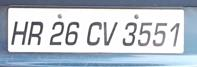1: (168, 21, 180, 49)
2: (49, 19, 64, 46)
3: (122, 22, 137, 48)
5: (151, 22, 168, 47), (137, 21, 153, 47)
6: (65, 21, 81, 47)
C: (86, 19, 102, 48)
H: (10, 19, 29, 47)
R: (29, 20, 45, 47)
V: (101, 20, 120, 47)
